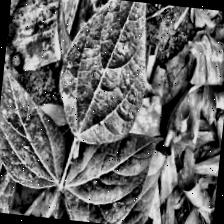Bean Rust: (48, 0, 157, 148), (59, 131, 155, 224), (0, 66, 70, 190)
